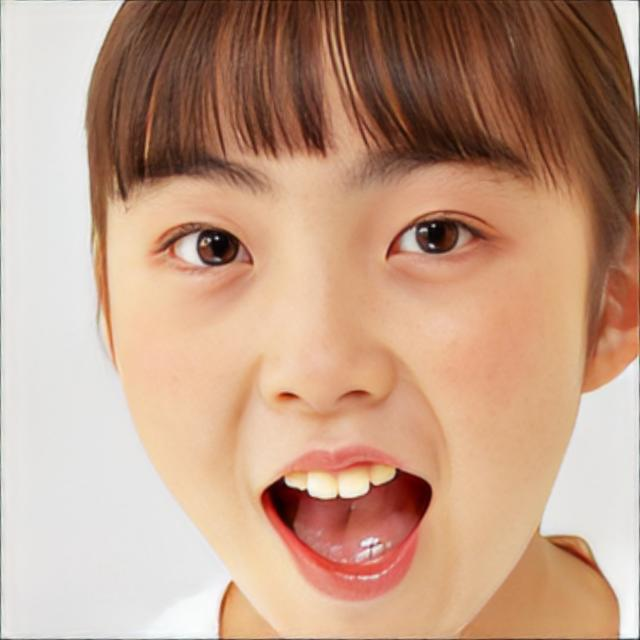surprise: (105, 91, 596, 638)
